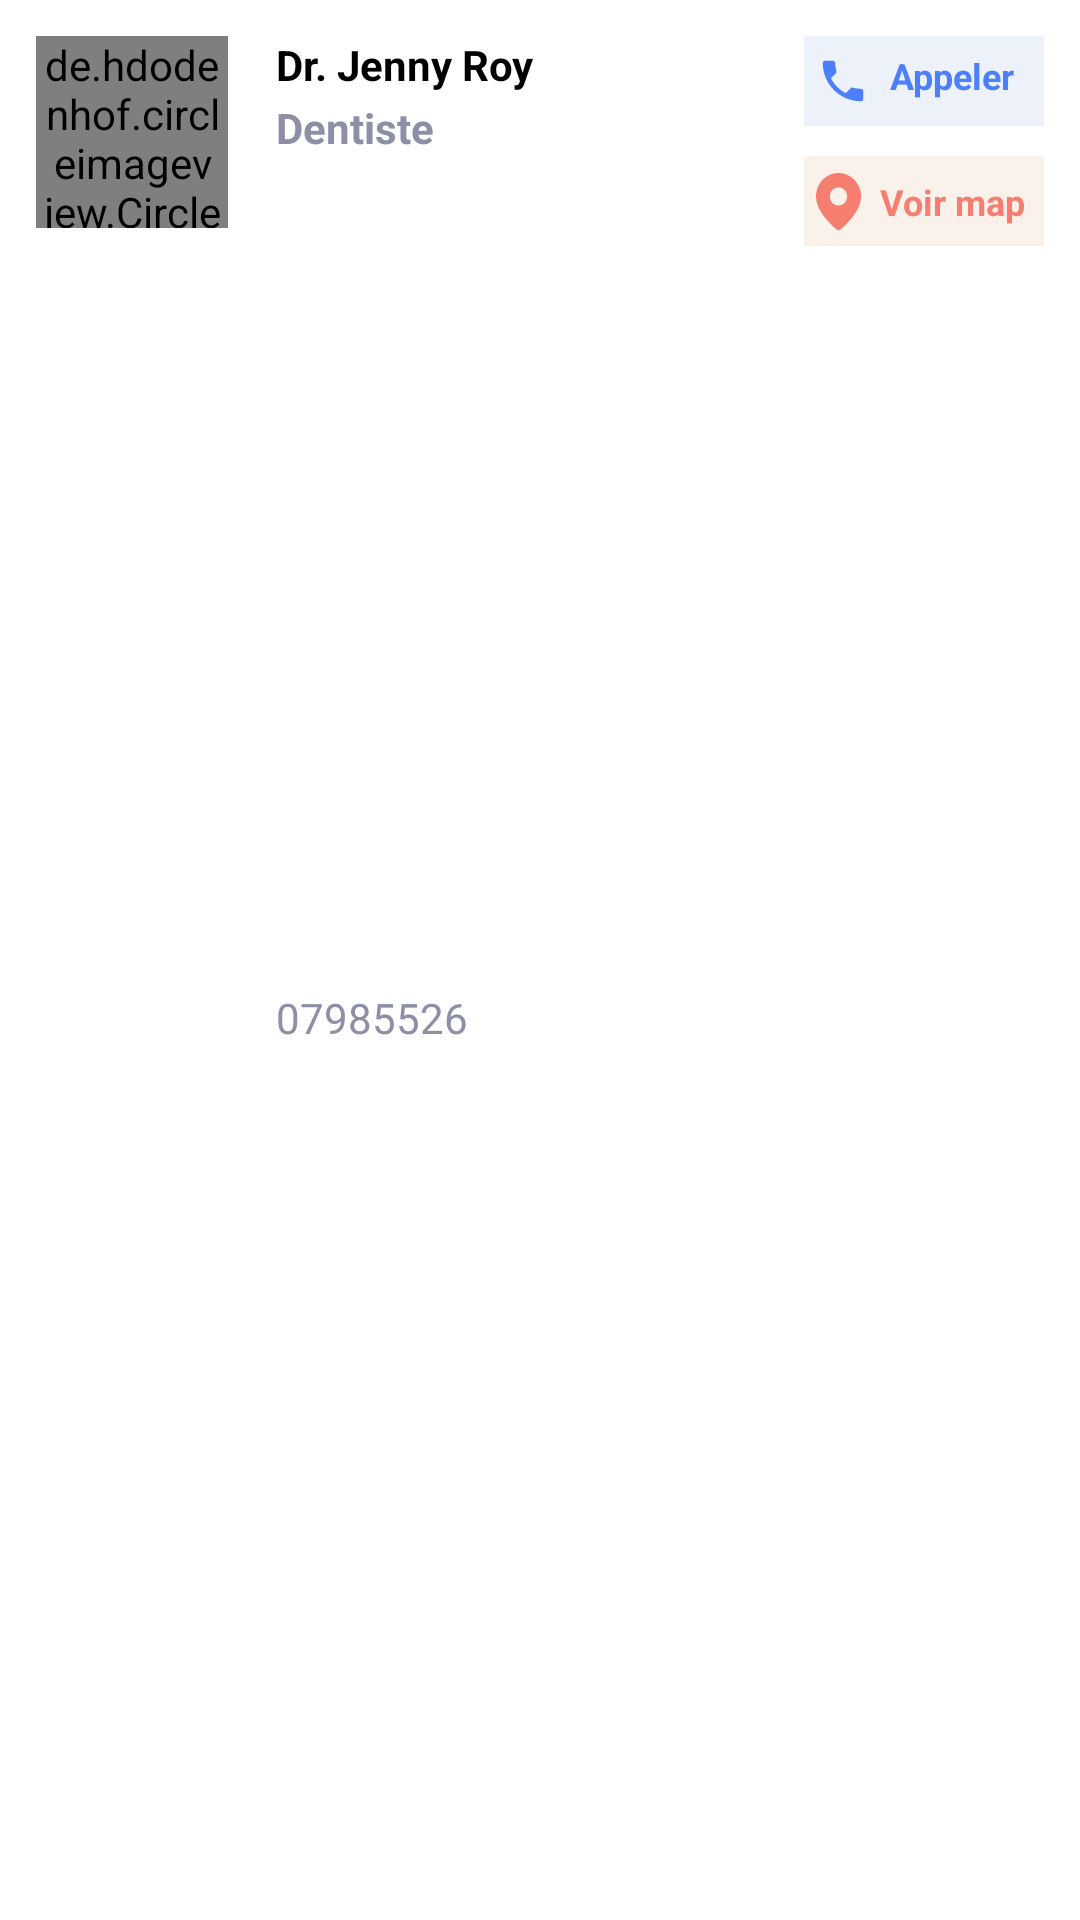

Screen size 1080w x 1920h. Icon name, then its box in pixels as (left=x1, top=y1, right=x2, bottom=y2):
local phone: (left=822, top=60, right=864, bottom=102)
locationicon: (left=816, top=173, right=861, bottom=230)
